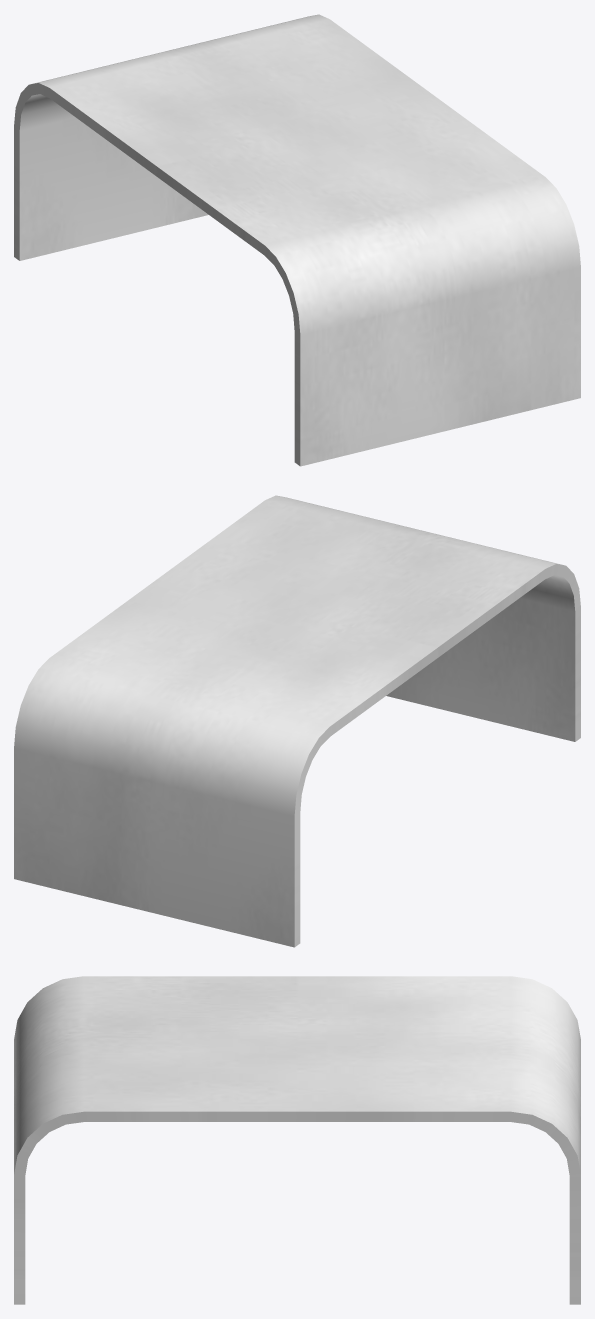
The model's file is table_3.fbx.
The picture shows the model from 3 angles, top to bottom: view 1: azimuth 30°, elevation 25°; view 2: azimuth 150°, elevation 25°; view 3: azimuth 270°, elevation 25°; orthographic projection.
Parts seen in each view (by area): view 1: table_3; view 2: table_3; view 3: table_3.
Part boxes in pixels (x1,y1,x2,y2): table_3: (14,14,580,466); table_3: (14,495,580,947); table_3: (14,976,580,1304).
Bounding box in the file's own units: 1.13 × 0.7516 × 2.
